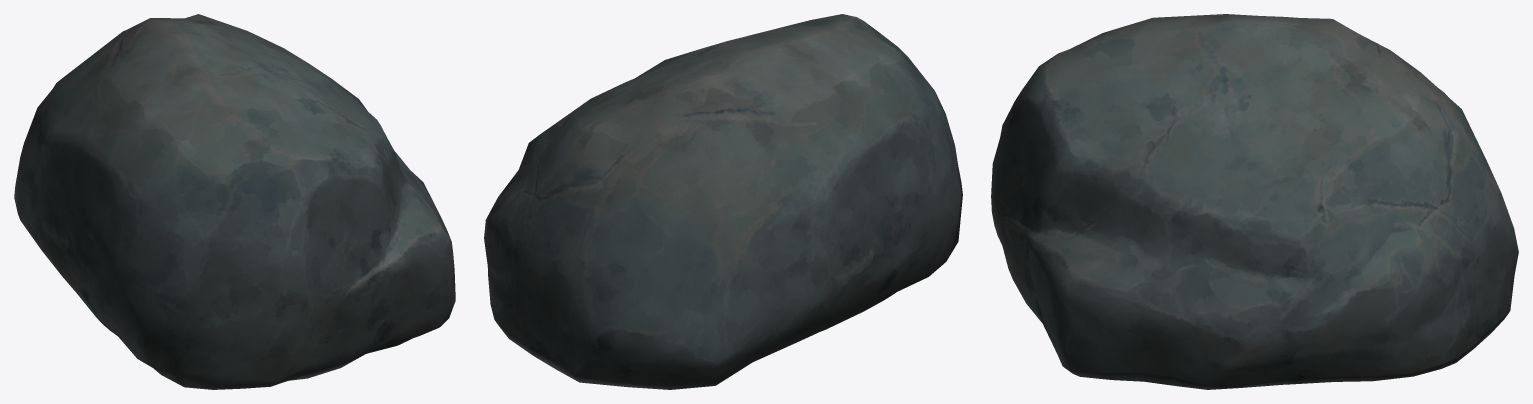
File: fragment_metin.glb
The picture shows the model from 3 angles, left to right: view 1: azimuth 30°, elevation 25°; view 2: azimuth 150°, elevation 25°; view 3: azimuth 270°, elevation 25°; orthographic projection. The views are drawn at different scales.
Visible parts, largest first — view 1: polySurface1; view 2: polySurface1; view 3: polySurface1.
Part boxes in pixels (left/top/right/bottom): polySurface1: left=14, top=14, right=455, bottom=389; polySurface1: left=484, top=14, right=962, bottom=389; polySurface1: left=991, top=14, right=1518, bottom=389.
Size of the model in its own units: 0.2859 by 0.1973 by 0.3477.
Materials: 1 (1 with a texture image).
